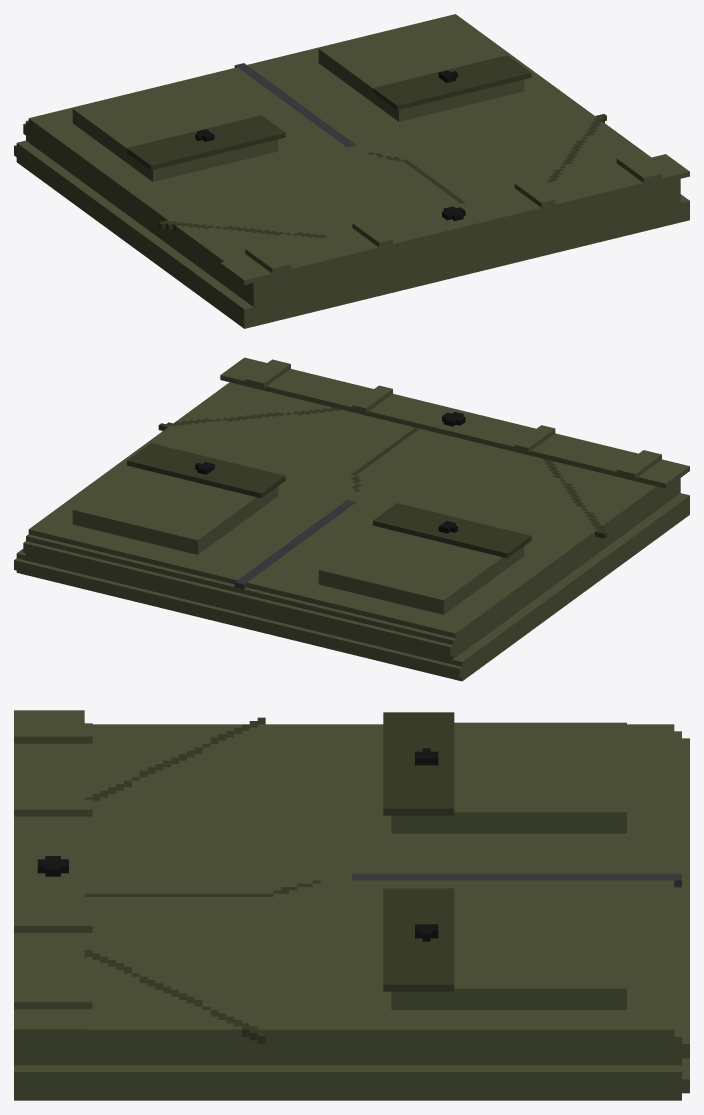
File: shorts_cargo.glb
3 renders of one model, top to bottom at view 1: azimuth 30°, elevation 25°; view 2: azimuth 150°, elevation 25°; view 3: azimuth 270°, elevation 25°, orthographic. The views are drawn at different scales.
Visible parts, largest first — view 1: shorts_cargo:compound; view 2: shorts_cargo:compound; view 3: shorts_cargo:compound.
Boxes of the visible parts, bbox=[...] form: shorts_cargo:compound: bbox=[14, 14, 689, 328]; shorts_cargo:compound: bbox=[14, 357, 689, 681]; shorts_cargo:compound: bbox=[14, 710, 689, 1100].
Size of the model in its own units: 0.384 by 0.056 by 0.344.
